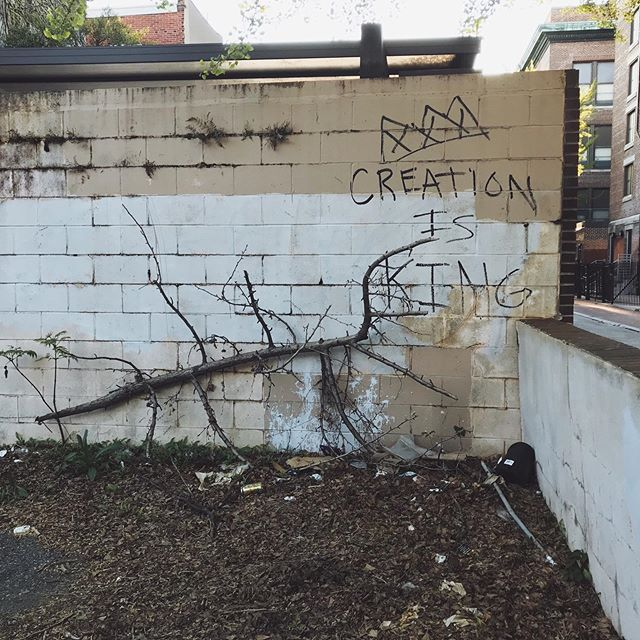building: (582, 1, 640, 312)
graffiti: (336, 85, 554, 314)
wall: (1, 84, 580, 457)
